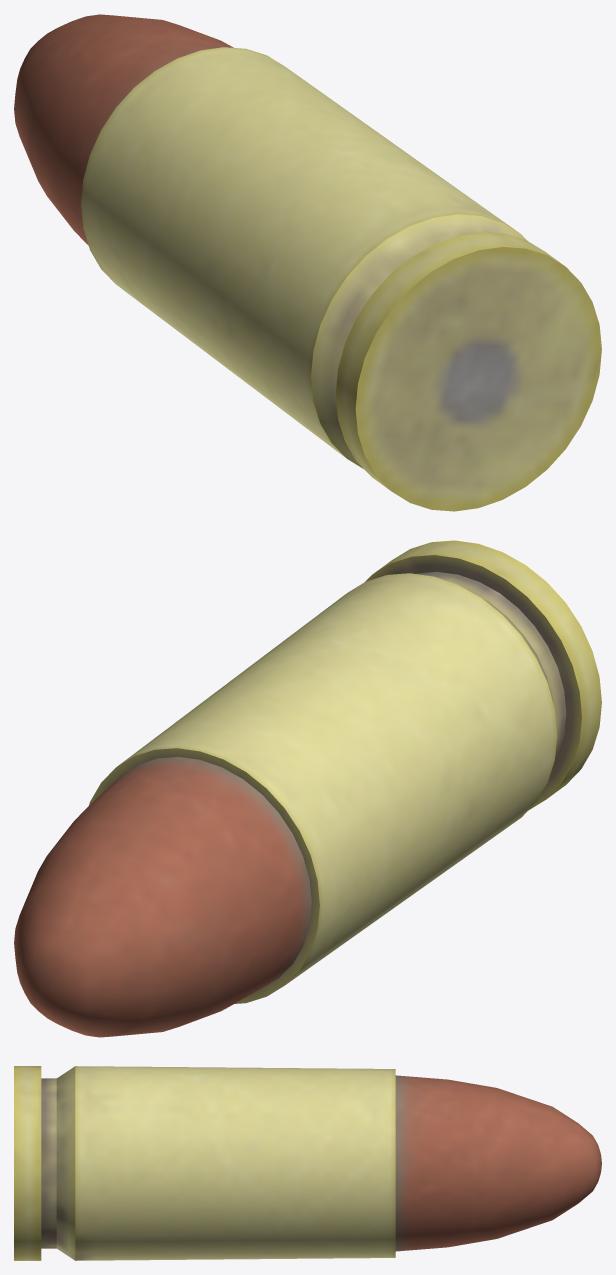
File: cartridge.gltf
3 renders of one model, top to bottom at view 1: azimuth 30°, elevation 25°; view 2: azimuth 150°, elevation 25°; view 3: azimuth 270°, elevation 25°, orthographic. The views are drawn at different scales.
Parts seen in each view (by area): view 1: Cartridge; view 2: Cartridge; view 3: Cartridge.
Part boxes in pixels (bbox=[...]): Cartridge: bbox=[14, 14, 601, 511]; Cartridge: bbox=[14, 540, 601, 1037]; Cartridge: bbox=[14, 1066, 601, 1260].
Bounding box in the file's own units: 0.00973 × 0.00973 × 0.0293.
Materials: 1 (1 with a texture image).
